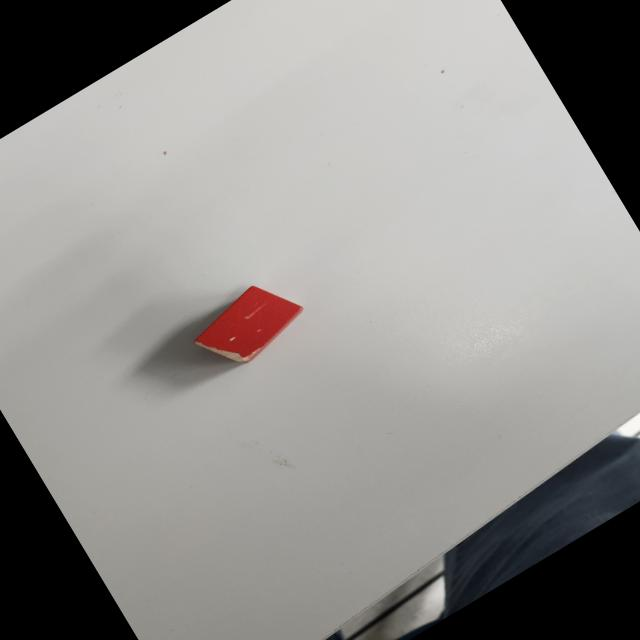broken: (182, 268, 312, 381)
